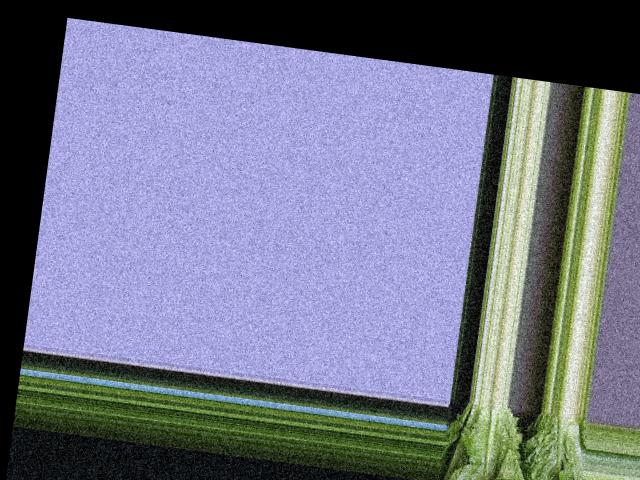lettuce: (520, 409, 586, 480)
